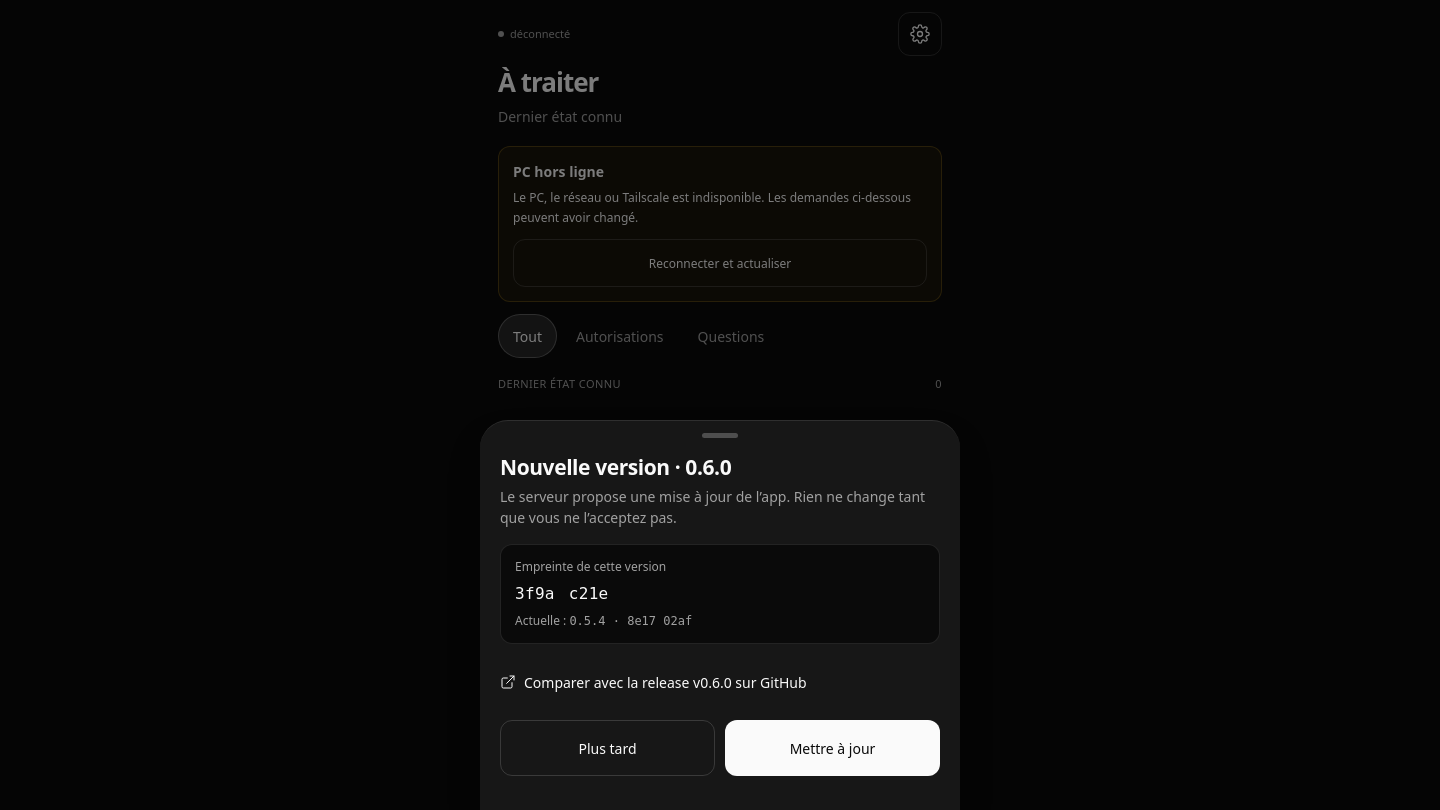
Test: the app › « Plus tard » hides the sheet for that build; a newer one raises it again
The width and height of the screenshot is (1440, 810).
Click the button "Plus tard": click(608, 748) [500,720,715,776]
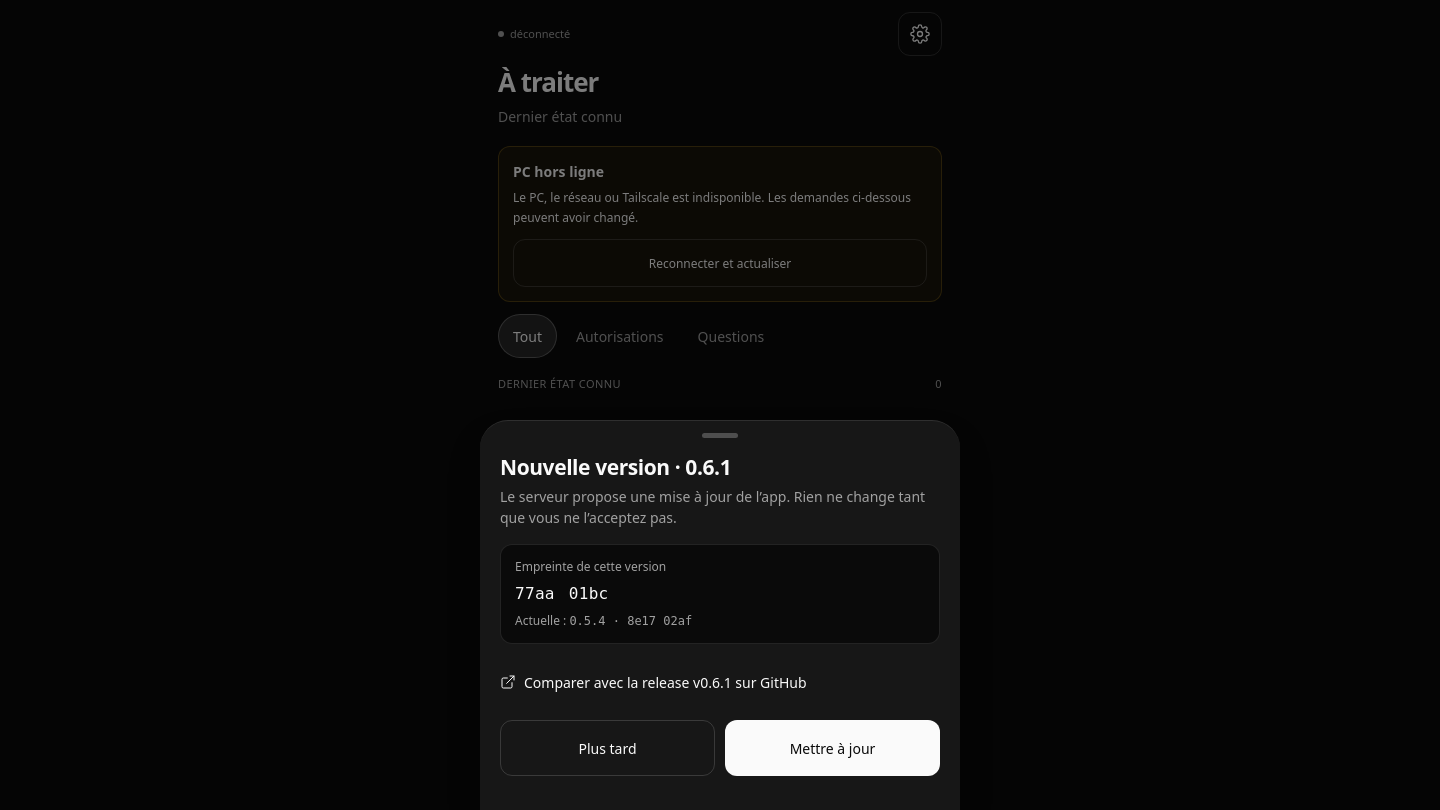
Expected: the dialog "Nouvelle version · 0.6.1" is shown, [480,420,960,809]
